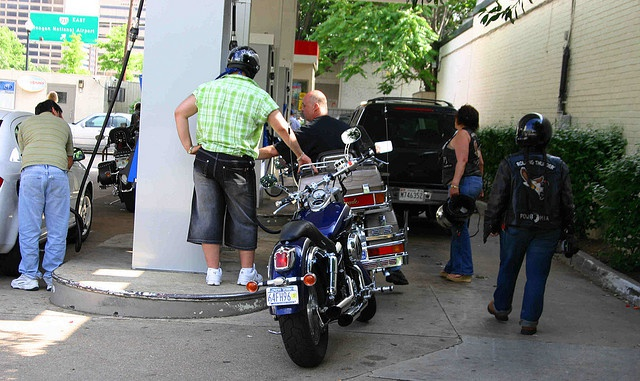non-vehicle: (244, 129, 395, 363), (295, 148, 408, 271), (97, 112, 141, 212)
